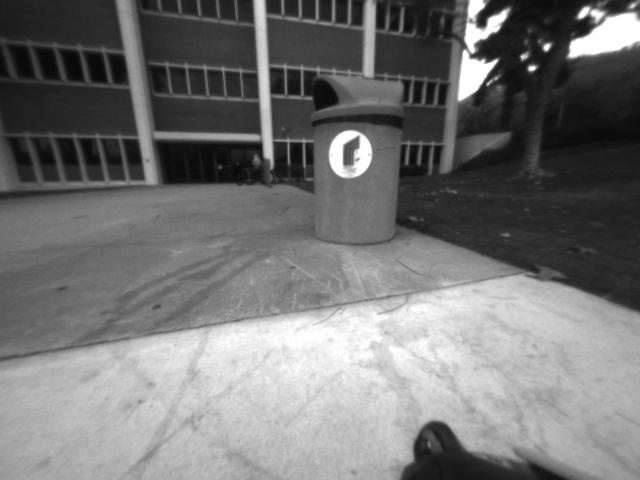trashcan: (302, 69, 412, 253)
